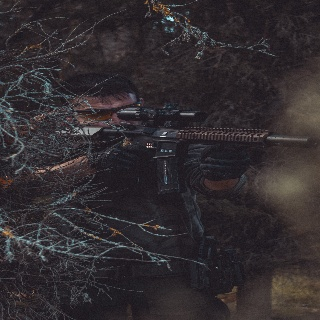rifle: (1, 98, 314, 197)
